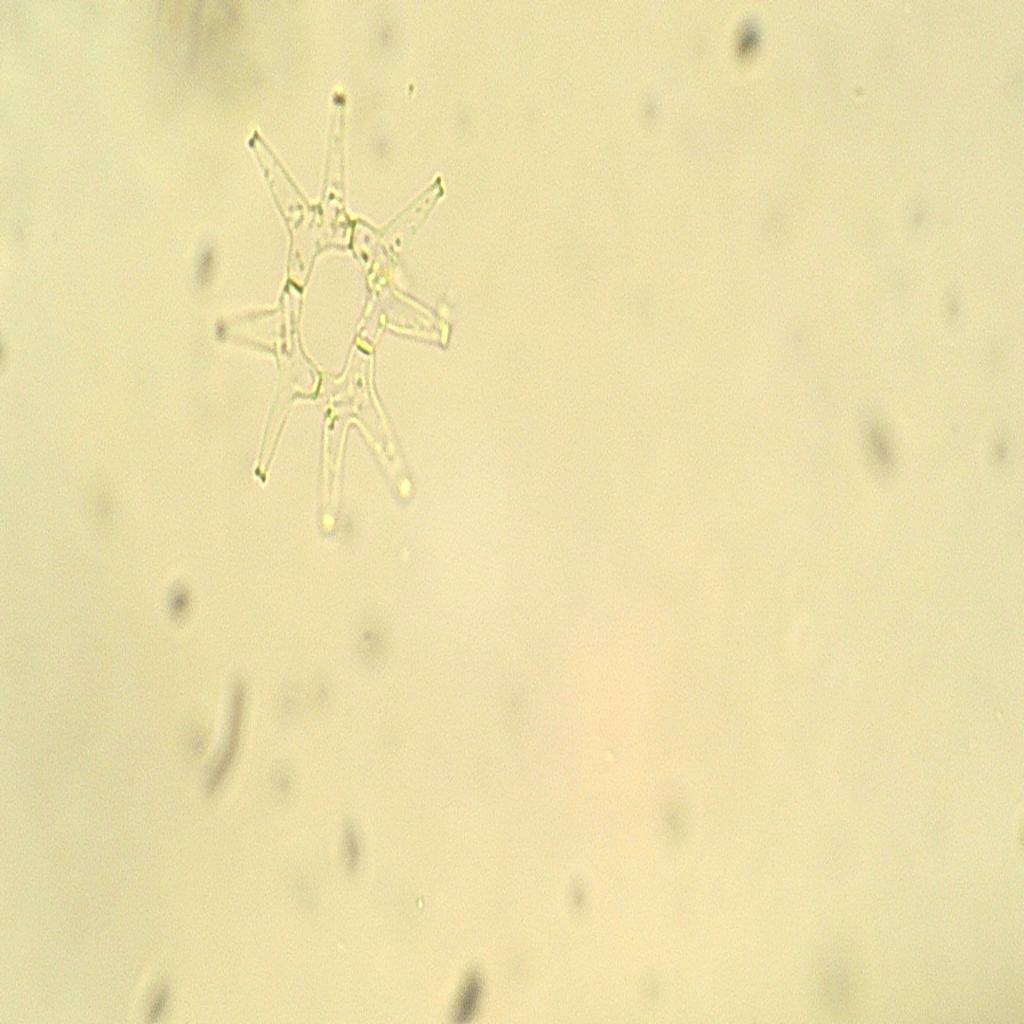Pediastrum_75TH: (203, 77, 466, 554)
